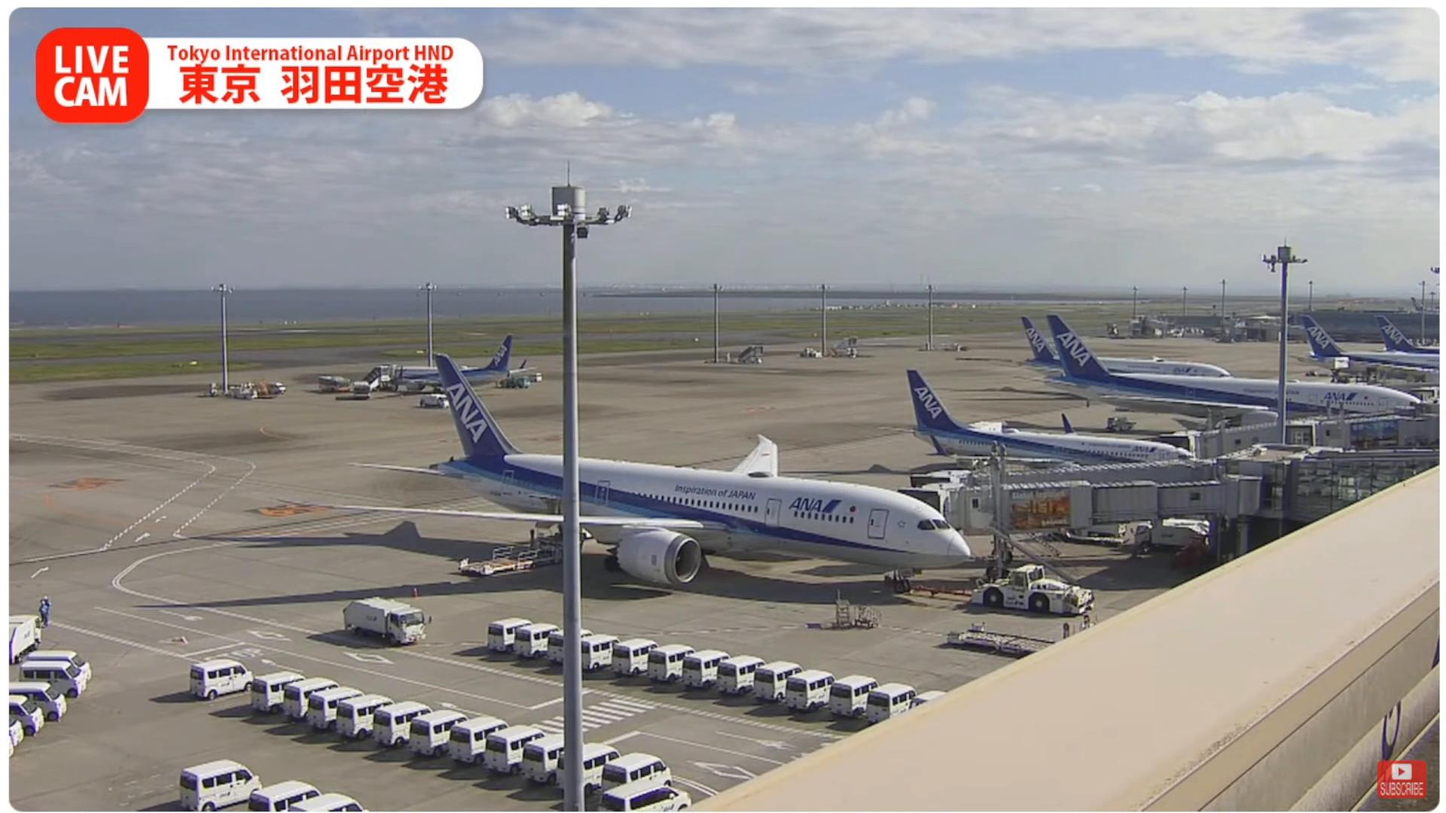APS: (969, 564, 1106, 619)
Aerobridge: (899, 476, 1264, 540), (843, 457, 1217, 496)
Airplane: (330, 354, 973, 599)
Baggage truck: (341, 594, 428, 645)
JCPL: (445, 525, 581, 579), (946, 628, 1055, 657)
Window: (1290, 456, 1440, 523)
